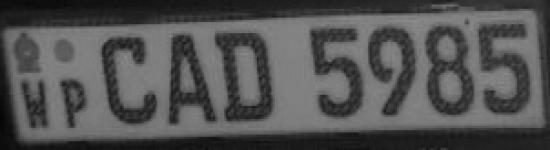5: (307, 23, 368, 124), (478, 16, 535, 118)
8: (423, 18, 478, 121)
9: (368, 20, 422, 125)
A: (158, 31, 218, 128)
C: (97, 30, 159, 127)
D: (214, 27, 275, 123)
P: (56, 76, 93, 130)
W: (18, 75, 53, 134)
